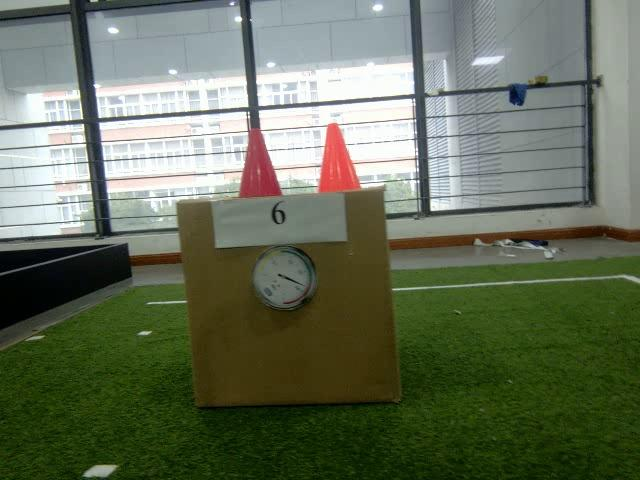6: (271, 201, 287, 226)
Dashboard: (248, 246, 316, 310)
orange_barrel: (319, 123, 364, 191)
red_barrel: (237, 127, 285, 199)
ssi: (263, 287, 274, 299)
